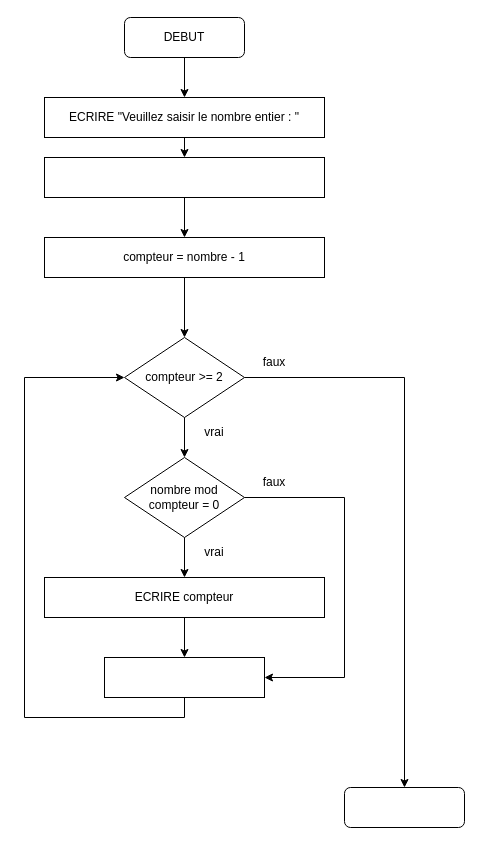
Some shapes in this 482 by 845 pixel diagram are drawn without their labels. The centre of each missing label's shape, as x and y in pixels:
"compteur = compteur - 1" belongs at [184,677].
"FIN" belongs at [404,807].
"LIRE nombre" belongs at [184,177].
